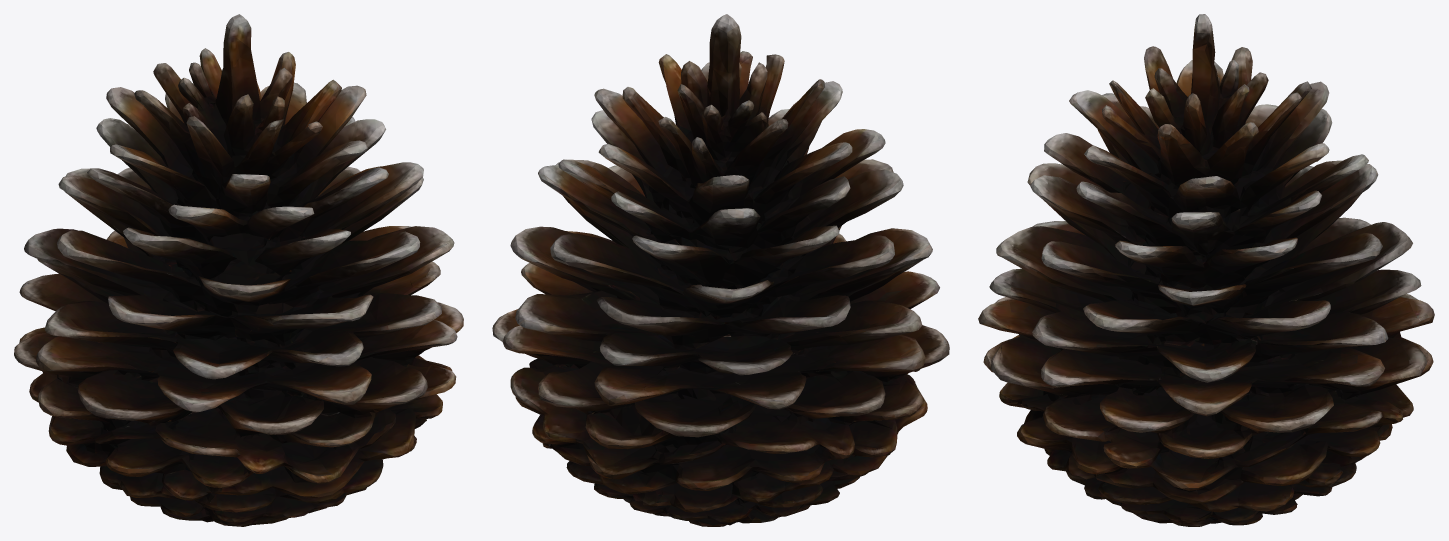
3 renders of one model, left to right at view 1: azimuth 30°, elevation 25°; view 2: azimuth 150°, elevation 25°; view 3: azimuth 270°, elevation 25°, orthographic.
Parts seen in each view (by area): view 1: world; view 2: world; view 3: world.
Part boxes in pixels (left/top/right/bottom): world: left=14, top=14, right=463, bottom=526; world: left=492, top=14, right=949, bottom=526; world: left=978, top=14, right=1434, bottom=526.
Size of the model in its own units: 0.8412 by 0.998 by 0.838.
1 material, 1 textured.
